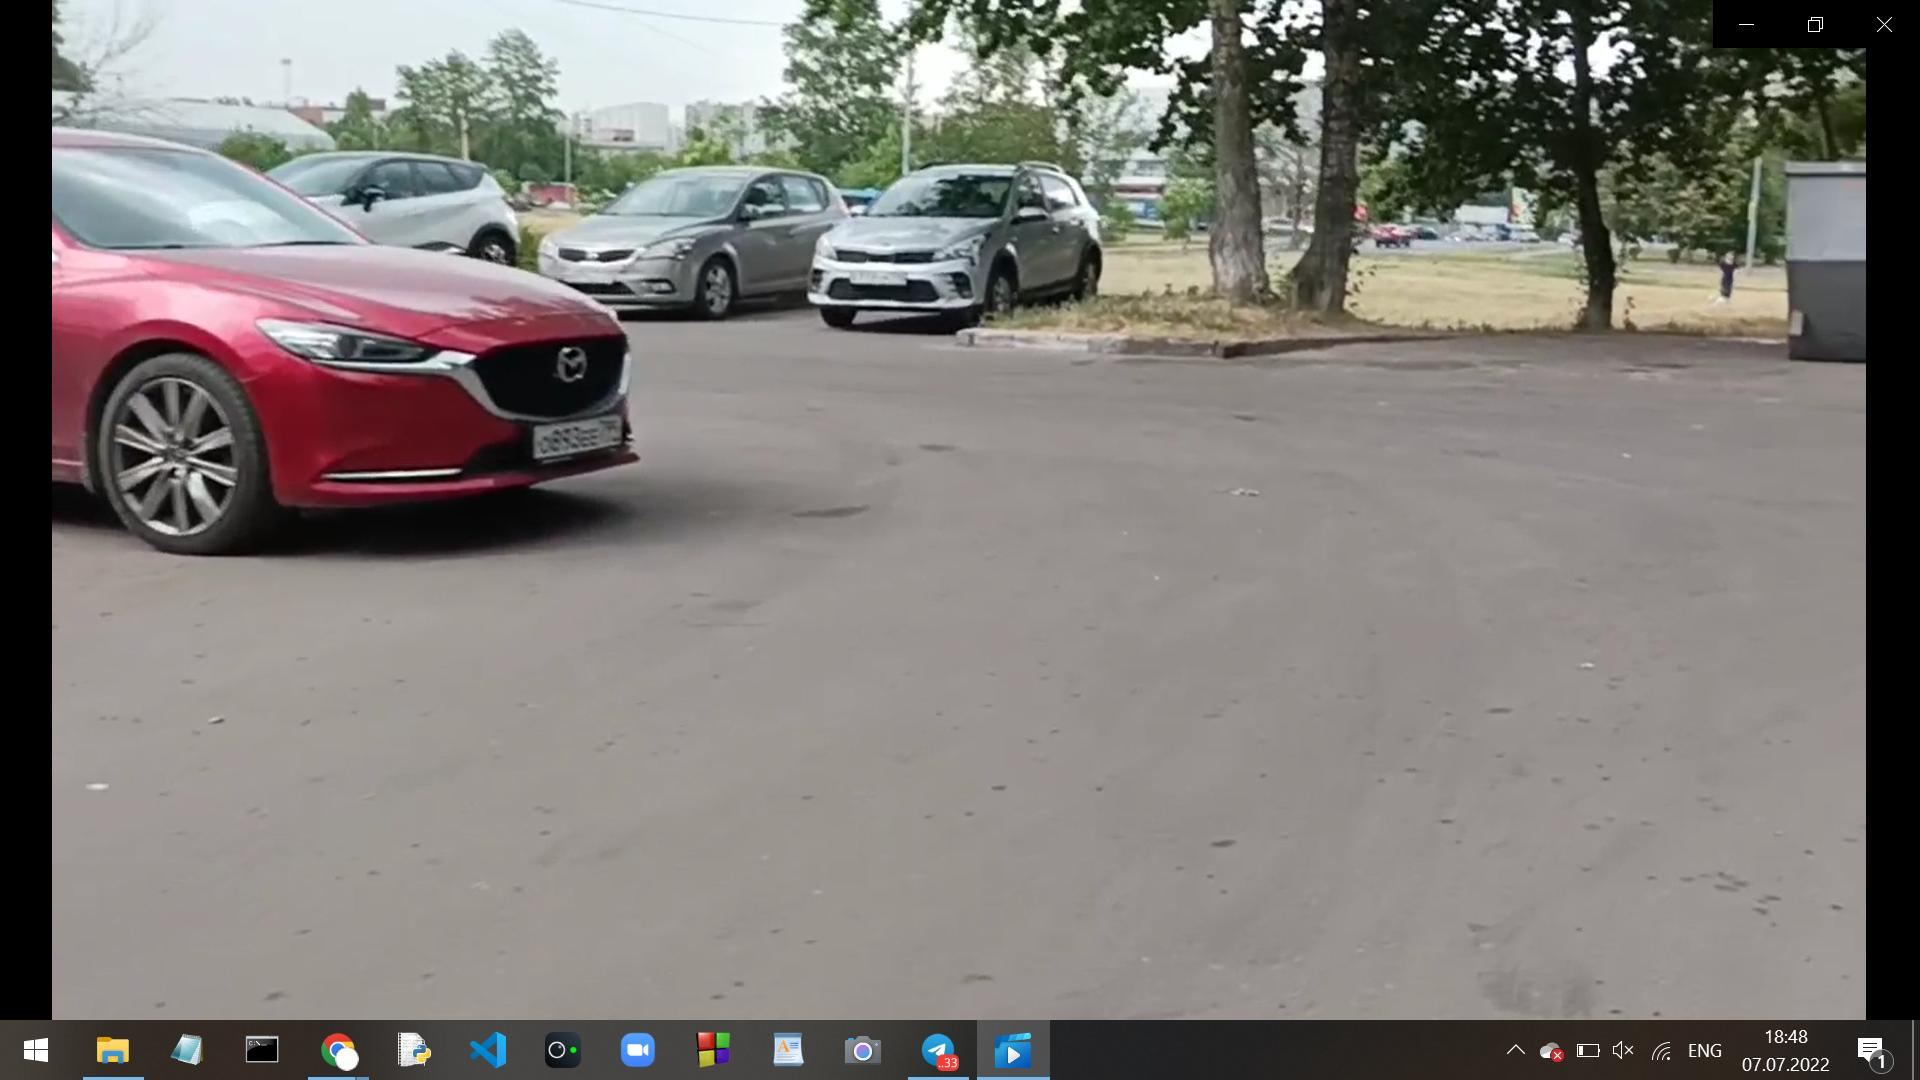plate: (542, 412, 624, 463), (856, 267, 897, 289)
